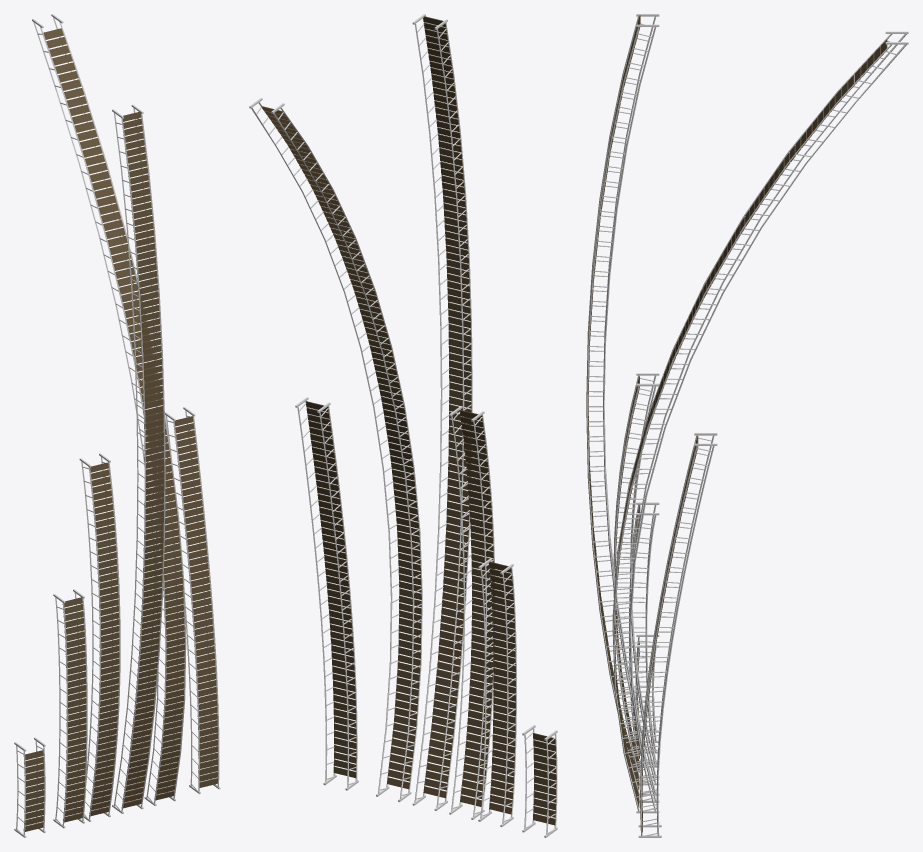
Rendered from Bridges.fbx.
The picture shows the model from 3 angles, left to right: view 1: azimuth 30°, elevation 25°; view 2: azimuth 150°, elevation 25°; view 3: azimuth 270°, elevation 25°; orthographic projection. The views are drawn at different scales.
Parts seen in each view (by area): view 1: Bridge 4, Bridge 6, Bridge 5, Bridge 1, Bridge 2, Bridge 3; view 2: Bridge 4, Bridge 6, Bridge 5, Bridge 1, Bridge 2, Bridge 3; view 3: Bridge 6, Bridge 4, Bridge 5, Bridge 1, Bridge 2, Bridge 3.
Boxes of the visible parts, x1=… form: Bridge 4: x1=112, y1=104, x2=165, y2=813; Bridge 6: x1=32, y1=14, x2=186, y2=805; Bridge 5: x1=165, y1=407, x2=220, y2=794; Bridge 1: x1=79, y1=453, x2=120, y2=821; Bridge 2: x1=53, y1=589, x2=87, y2=828; Bridge 3: x1=14, y1=737, x2=45, y2=837; Bridge 4: x1=412, y1=14, x2=472, y2=810; Bridge 6: x1=249, y1=98, x2=422, y2=802; Bridge 5: x1=295, y1=397, x2=358, y2=790; Bridge 1: x1=449, y1=406, x2=495, y2=819; Bridge 2: x1=478, y1=558, x2=516, y2=826; Bridge 3: x1=522, y1=725, x2=557, y2=837; Bridge 6: x1=612, y1=31, x2=908, y2=813; Bridge 4: x1=586, y1=14, x2=659, y2=795; Bridge 5: x1=638, y1=433, x2=717, y2=837; Bridge 1: x1=613, y1=373, x2=659, y2=778; Bridge 2: x1=629, y1=502, x2=659, y2=764; Bridge 3: x1=635, y1=634, x2=659, y2=742.
Bounding box in the file's own units: 3023 × 10223 × 3876.
